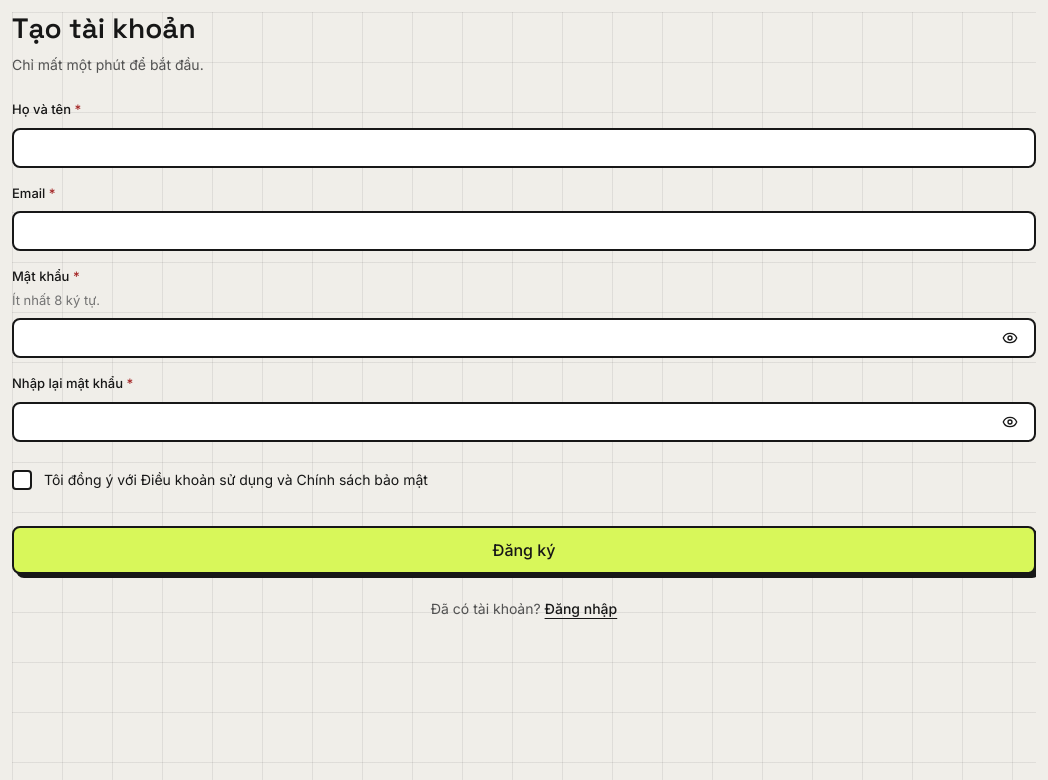
Test: RegisterScreen › shows the rule the backend says the password broke
Step 1. Type "An Nguyễn" into the field labelled "Họ và tên *" → x=524, y=148, box [26,130,1022,166]
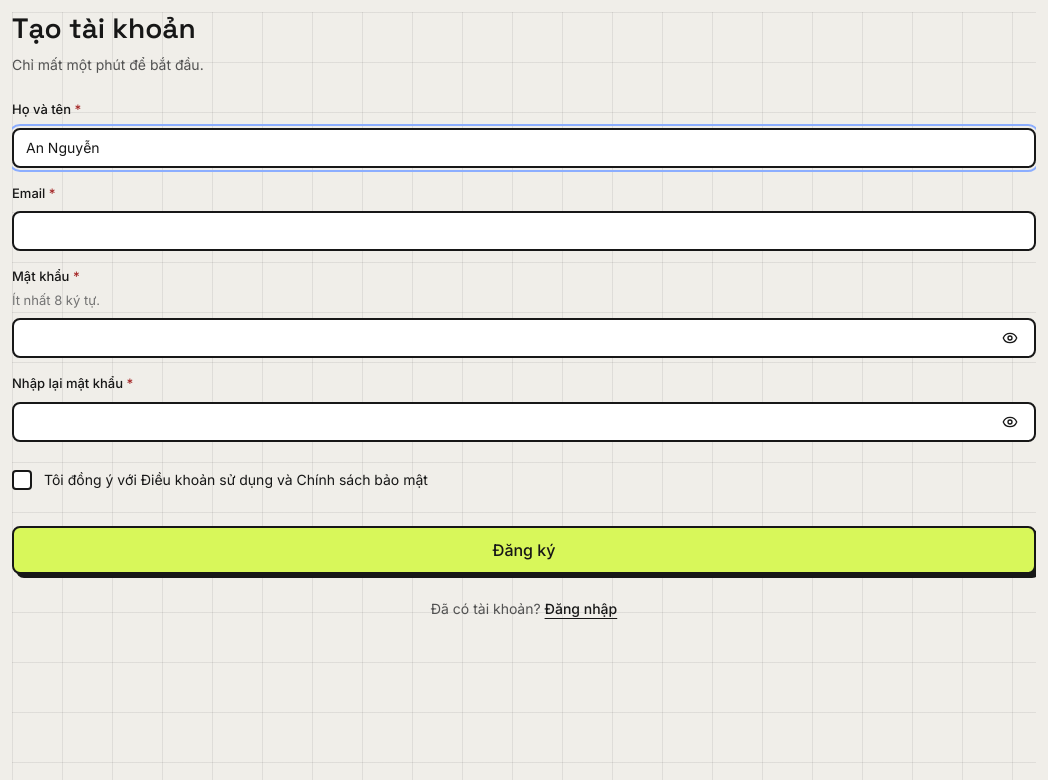
Step 2. Type "an@example.com" into the field labelled "Email *" → x=524, y=231, box [26,213,1022,249]
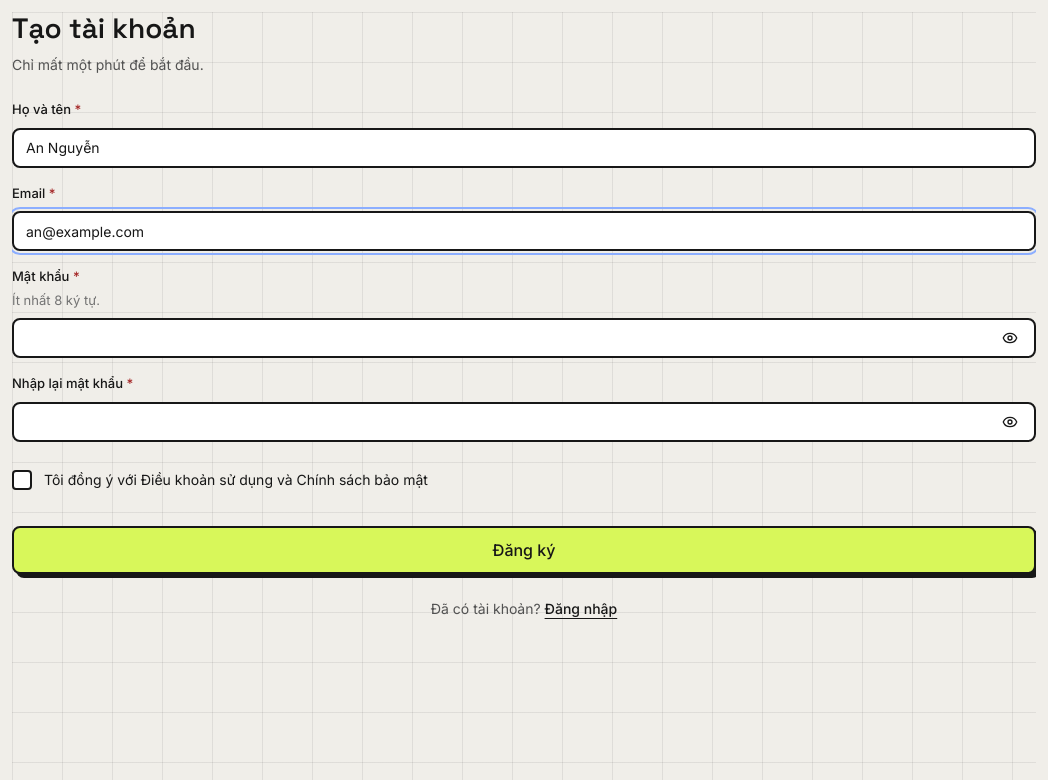
Step 3. Type "Passw0rd" into the password field labelled "Mật khẩu *" → x=508, y=338, box [26,320,990,356]
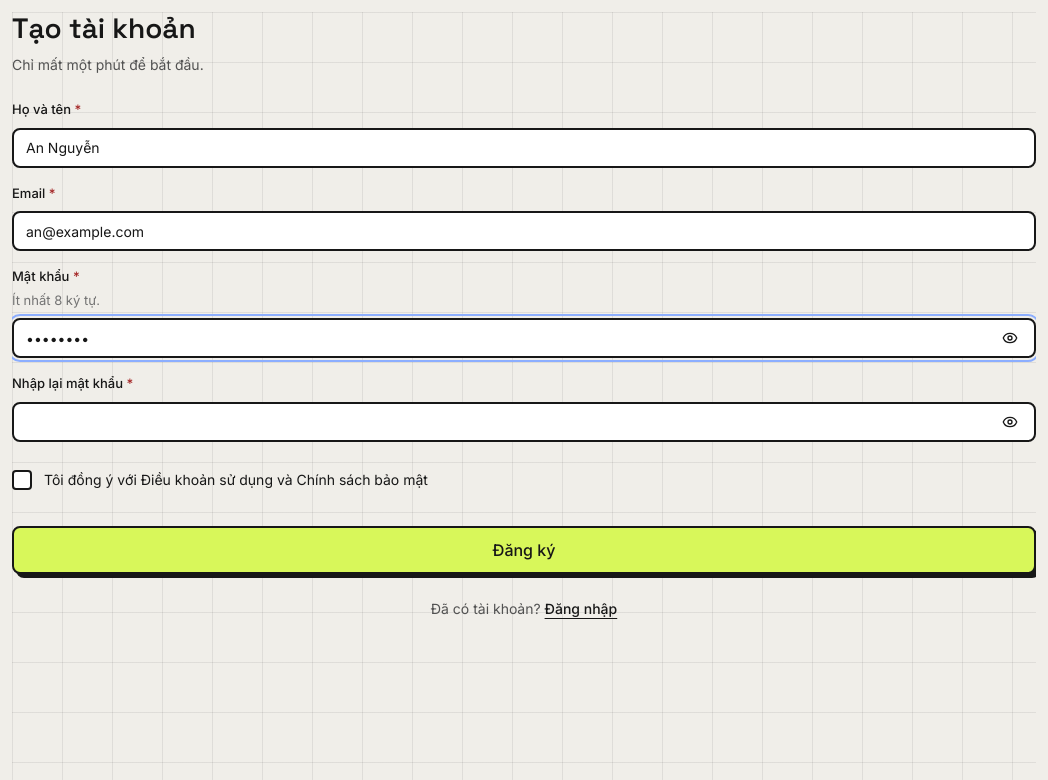
Step 4. Type "Passw0rd" into the password field labelled "Nhập lại mật khẩu *" → x=508, y=422, box [26,404,990,440]
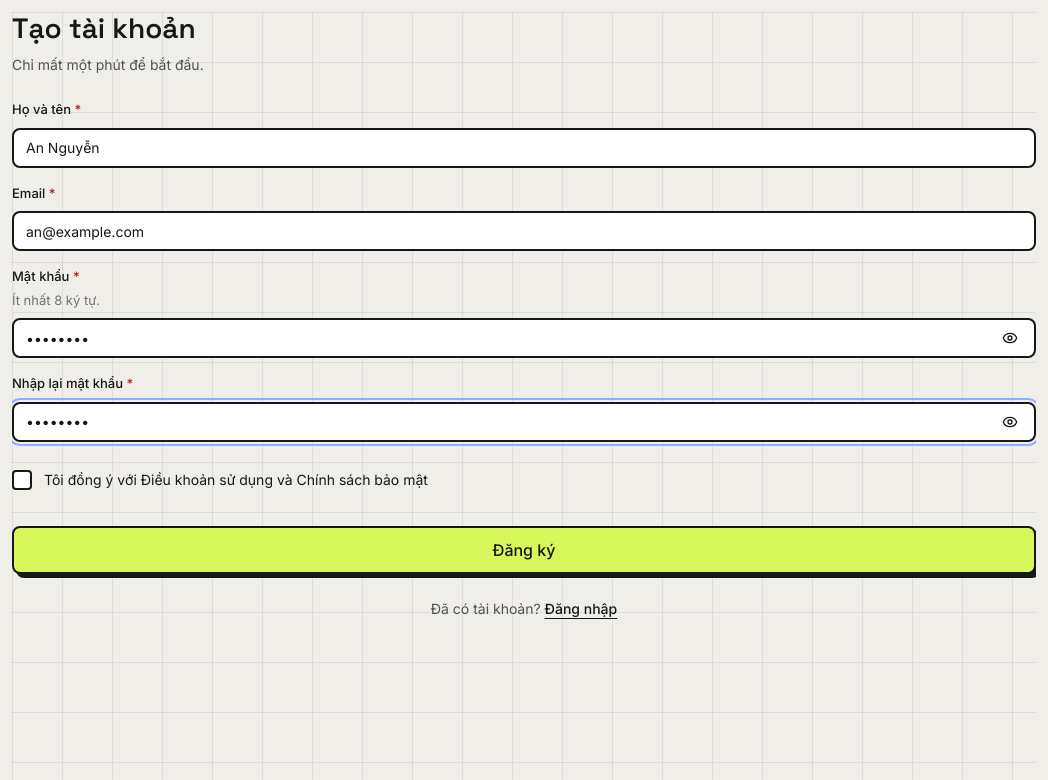
Step 5. Click the checkbox → x=220, y=480, box [12,470,428,490]
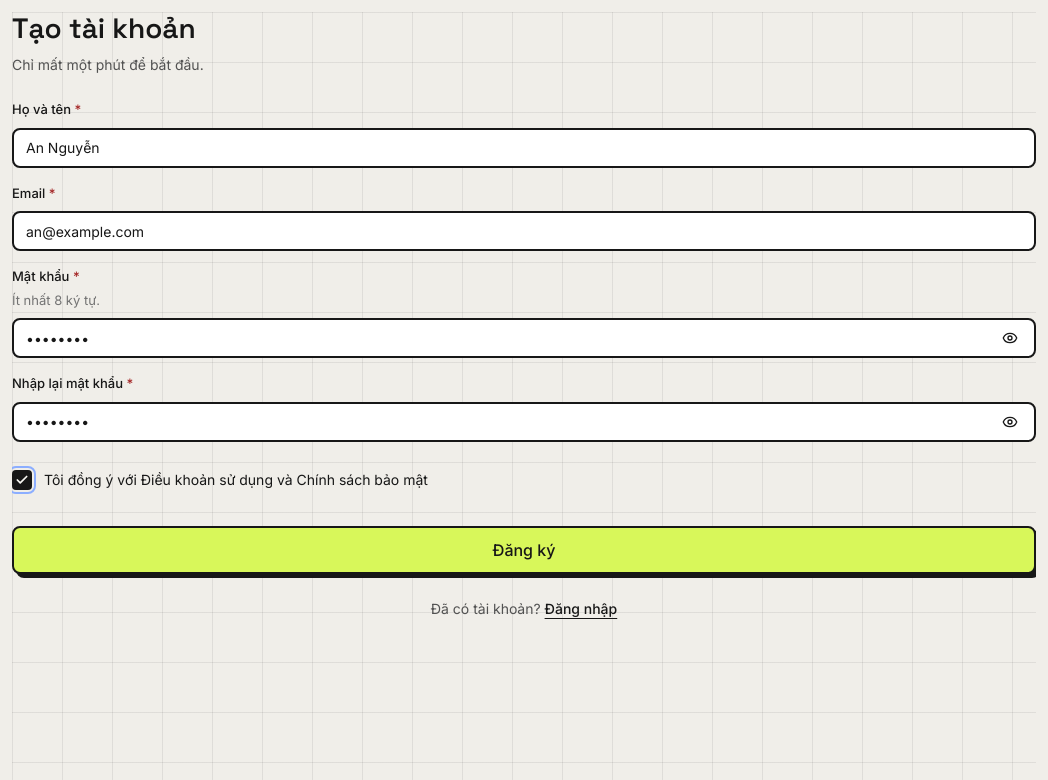
Step 6. Click the button "Đăng ký" → x=524, y=550, box [12,526,1036,574]
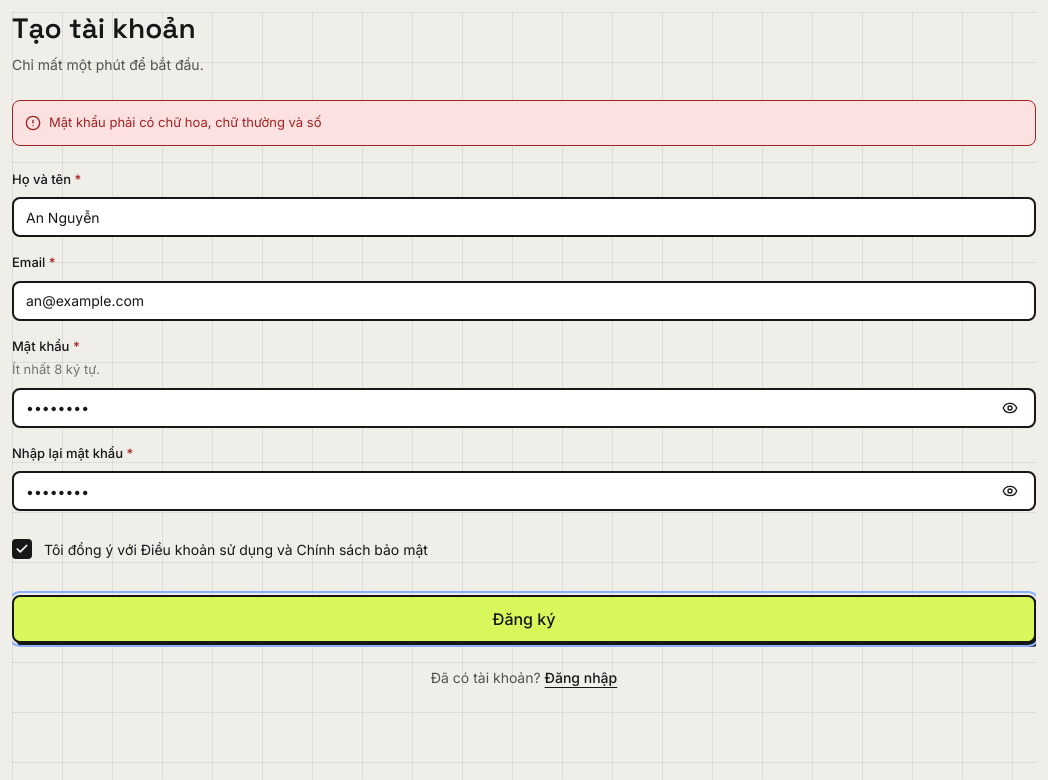
Now the text "Mật khẩu phải có chữ hoa, chữ thường và số" is shown, box [49,113,322,133]
